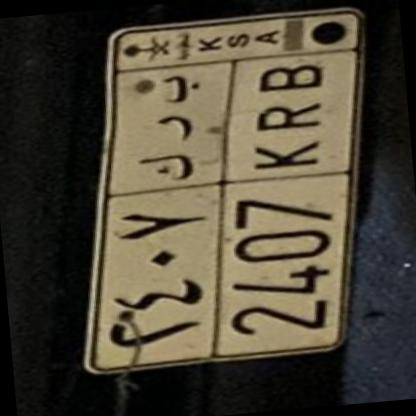english: (194, 42, 388, 377)
